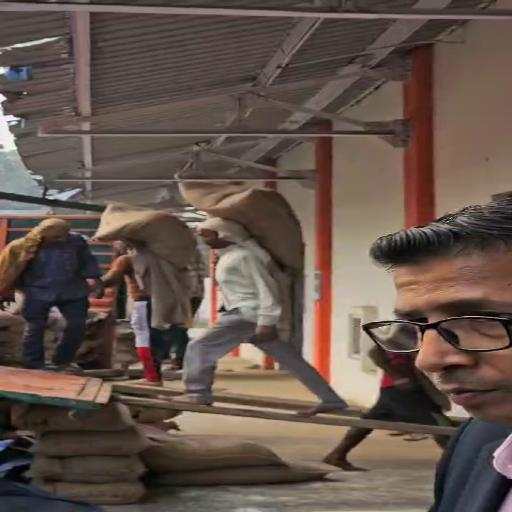bag: (173, 173, 305, 276), (98, 196, 204, 279)
